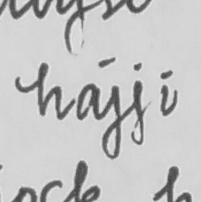a: (73, 81, 102, 122)
h: (34, 60, 66, 122)
i: (157, 68, 174, 117)
j: (100, 59, 125, 161), (127, 60, 148, 148)
